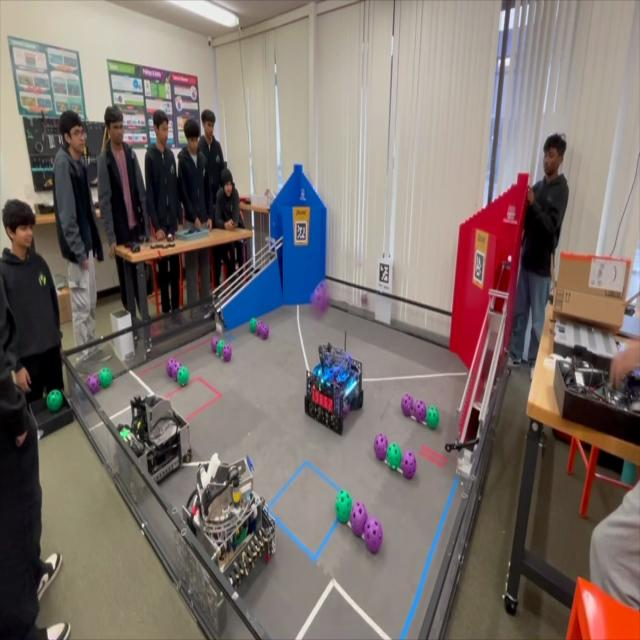artifact_green: (335, 490, 352, 523), (386, 443, 402, 470), (47, 390, 63, 413), (427, 406, 439, 430), (99, 368, 112, 388), (177, 367, 189, 386), (236, 526, 247, 544), (131, 419, 142, 436), (216, 339, 226, 357), (120, 428, 130, 439), (250, 318, 257, 333)
artifact_purple: (364, 518, 383, 553), (311, 280, 329, 316), (350, 502, 367, 536), (401, 451, 417, 479), (374, 434, 388, 461), (413, 399, 427, 423), (401, 394, 413, 416), (87, 374, 100, 394), (170, 361, 181, 380), (222, 344, 231, 362), (166, 358, 175, 375), (211, 336, 219, 354), (261, 323, 269, 339), (343, 402, 350, 419), (256, 321, 263, 338), (361, 293, 368, 306)
